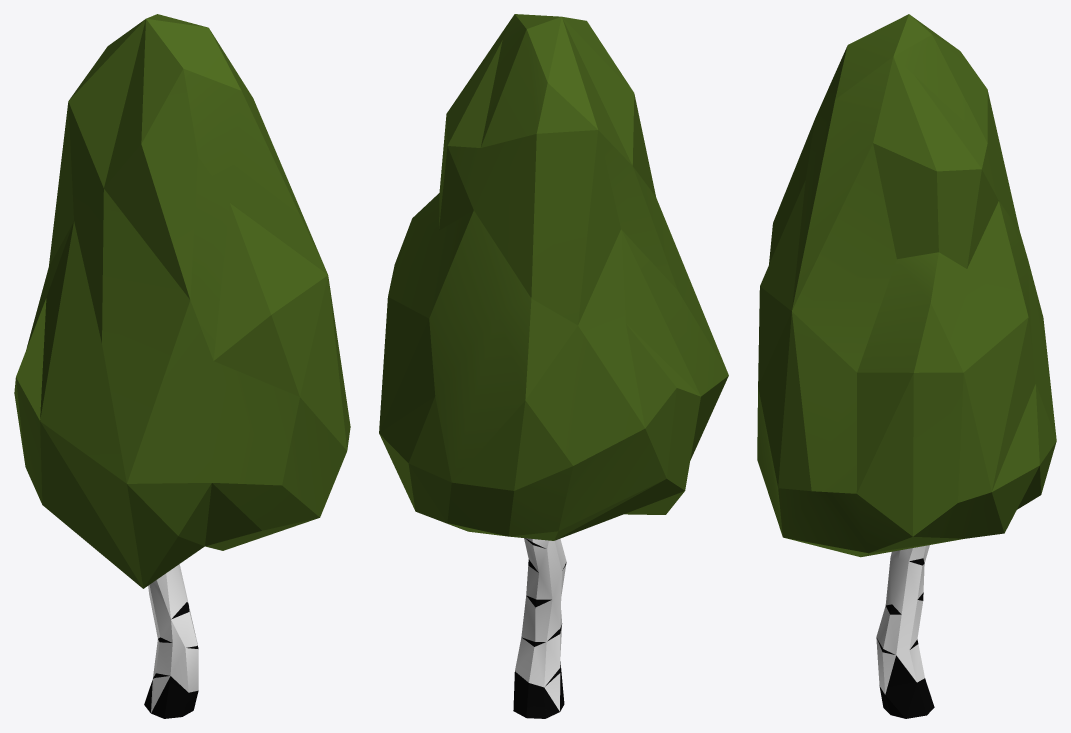
File: tree_2.obj
3 views of the same model, side by side, from view 1: azimuth 30°, elevation 25°; view 2: azimuth 150°, elevation 25°; view 3: azimuth 270°, elevation 25° (orthographic). The views are drawn at different scales.
Visible parts, largest first — view 1: BirchB; view 2: BirchB; view 3: BirchB.
Part boxes in pixels (x1,y1,x2,y2): BirchB: (14,14,350,718); BirchB: (379,14,728,718); BirchB: (757,14,1056,718).
Size of the model in its own units: 5.1 by 11.64 by 4.63.
